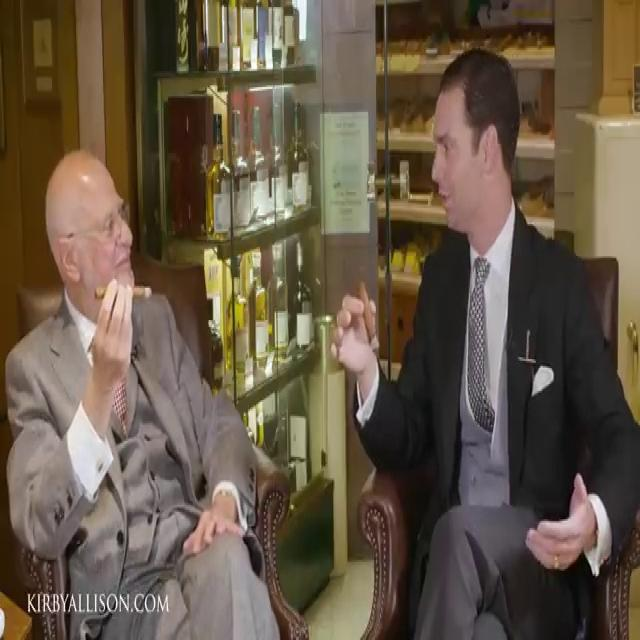Smooking: (353, 270, 387, 363), (85, 274, 166, 312)
